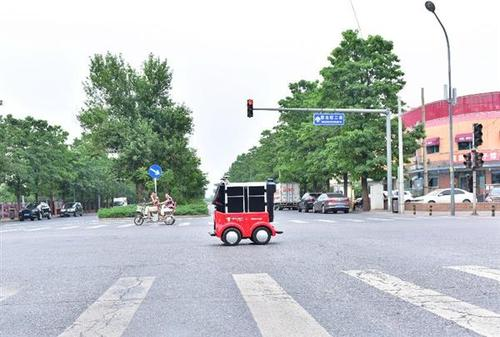red: (246, 98, 255, 120)
